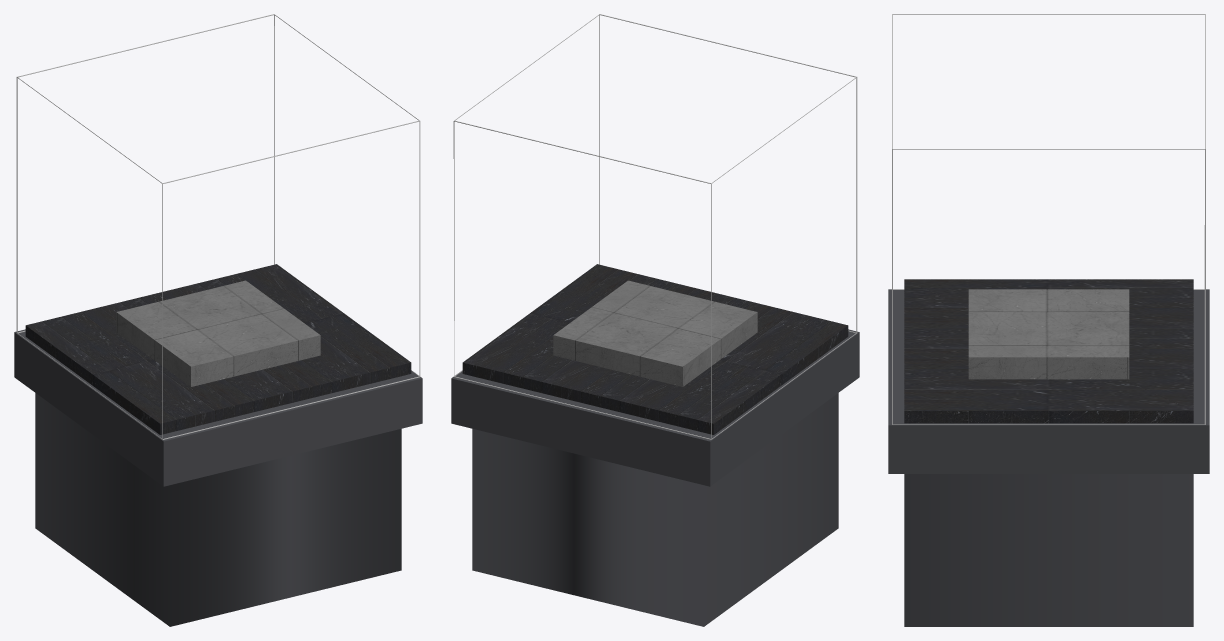
The model's file is 玻璃展览柜（正）.obj.
3 renders of one model, left to right at view 1: azimuth 30°, elevation 25°; view 2: azimuth 150°, elevation 25°; view 3: azimuth 270°, elevation 25°, orthographic. The views are drawn at different scales.
Parts seen in each view (by area): view 1: Bottom, shelf1, Glass; view 2: Bottom, shelf1, Glass; view 3: Bottom, shelf1, Glass.
Part boxes in pixels (<box>): Bottom: <box>14,264,422,626</box>; shelf1: <box>116,280,320,386</box>; Glass: <box>16,14,420,439</box>; Bottom: <box>451,264,859,626</box>; shelf1: <box>553,280,757,386</box>; Glass: <box>453,14,857,439</box>; Bottom: <box>888,279,1209,626</box>; shelf1: <box>968,289,1129,379</box>; Glass: <box>892,14,1205,424</box>.
Size of the model in its own units: 0.6 by 0.9976 by 0.6.
Materials: 2 (2 with a texture image).
